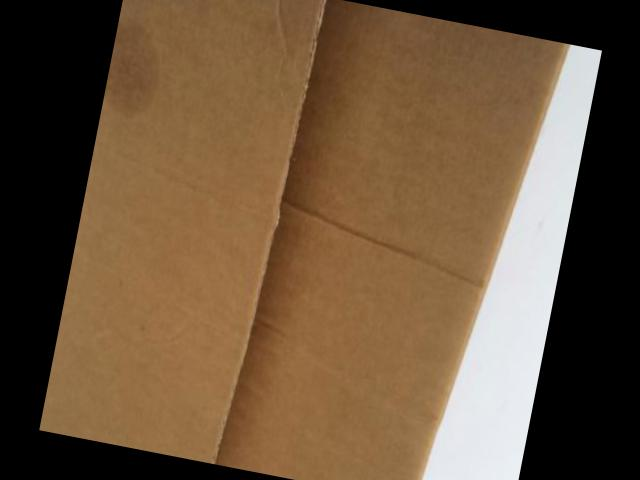cardboard paper: (39, 0, 571, 480)
